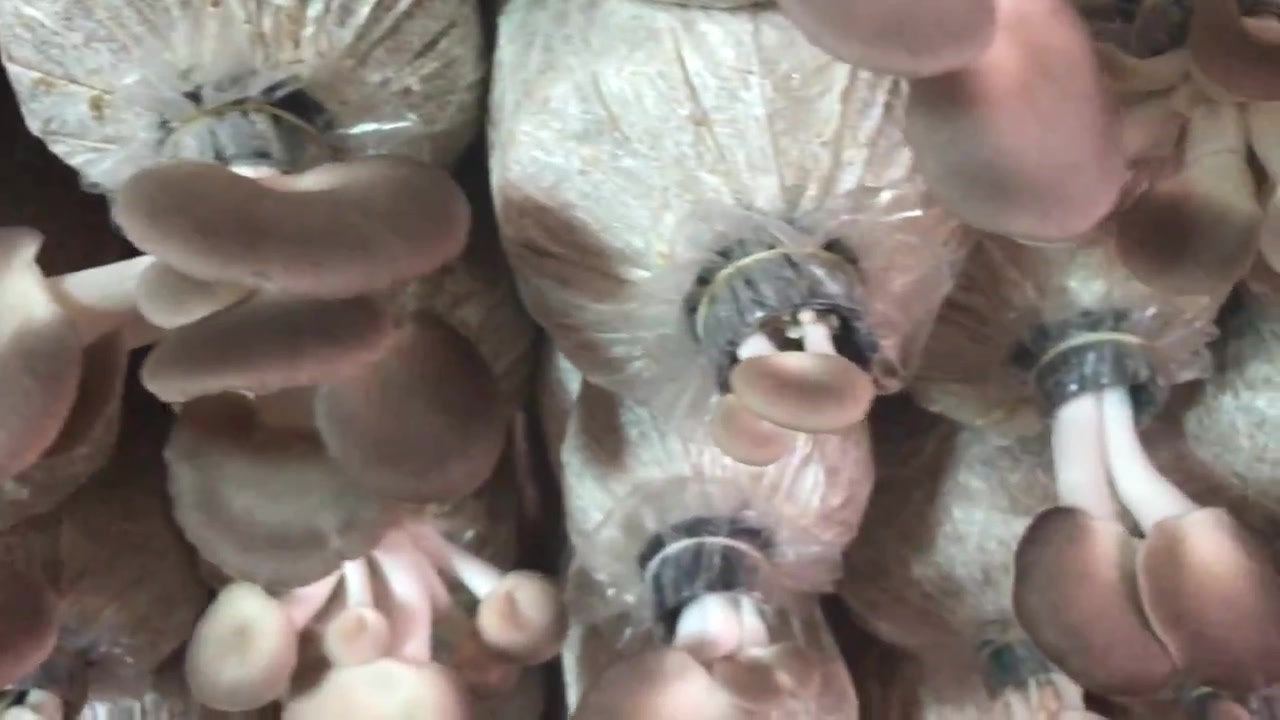nam: (118, 99, 510, 587), (775, 7, 1280, 292), (1018, 327, 1280, 701), (191, 521, 570, 720), (692, 255, 900, 466), (579, 530, 785, 720)
